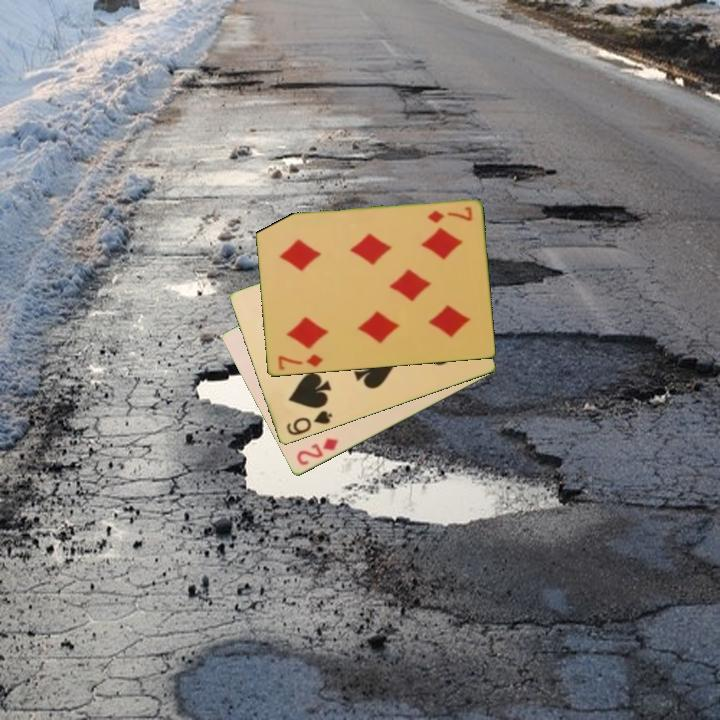2d: (293, 435, 341, 469)
6s: (283, 407, 335, 439)
7d: (424, 203, 475, 226), (274, 351, 325, 373)
